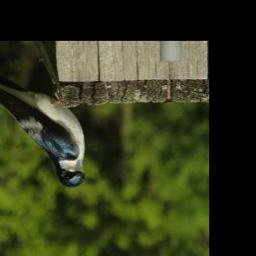Swallow: (0, 66, 87, 189)
